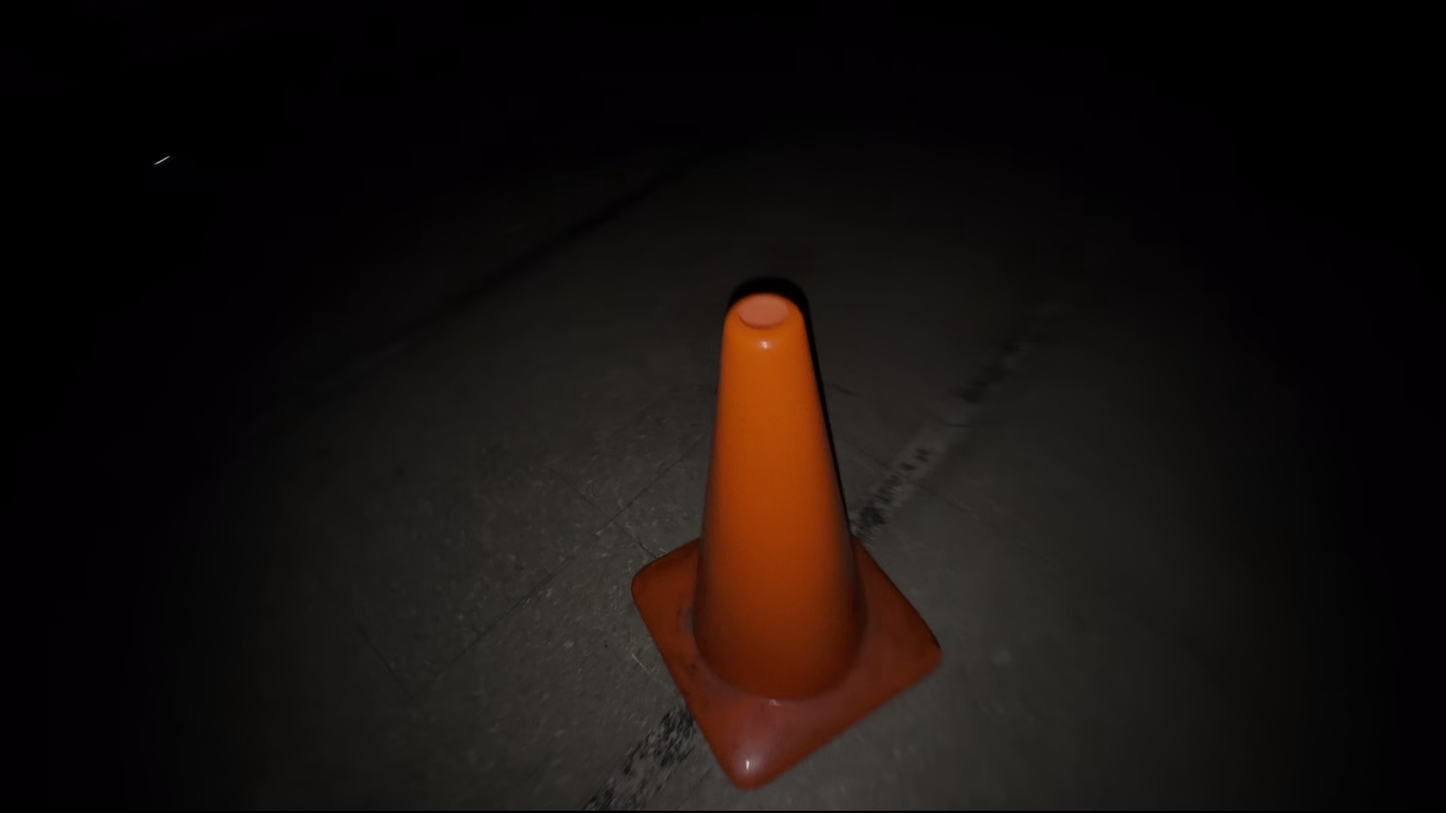traffic_cone: (629, 284, 943, 791)
